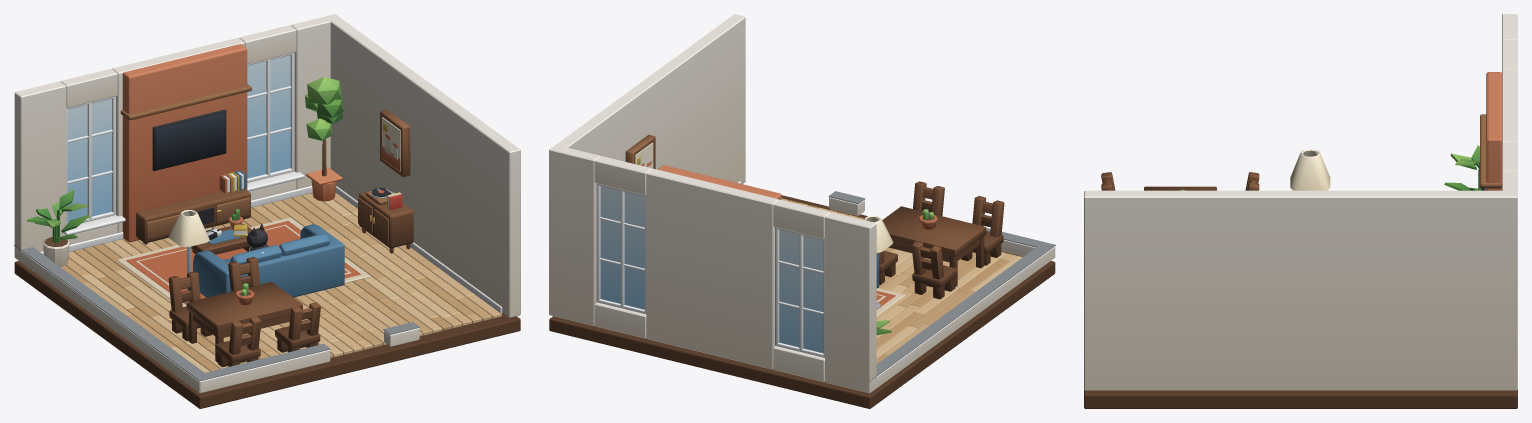
The model's file is living-room.glb.
3 renders of one model, left to right at view 1: azimuth 30°, elevation 25°; view 2: azimuth 150°, elevation 25°; view 3: azimuth 270°, elevation 25°, orthographic. The views are drawn at different scales.
Parts seen in each view (by area): view 1: walls, floor, chimney, window_glass, sofa, dining_table, rug, tv, media_unit, plant_tree, record_player, plant_leafy (+9 smaller); view 2: walls, floor, window_glass, dining_table, chair_nw, chair_sw, chair_se, chimney, floor_lamp, chair_ne; view 3: walls, floor, chimney, floor_lamp, plant_leafy.
Part boxes in pixels (bbox=[...]): walls: bbox=[14, 14, 520, 393]; floor: bbox=[14, 192, 520, 408]; chimney: bbox=[120, 44, 251, 242]; window_glass: bbox=[67, 55, 290, 222]; sofa: bbox=[193, 224, 344, 297]; dining_table: bbox=[186, 282, 302, 362]; rug: bbox=[116, 217, 370, 306]; tv: bbox=[152, 109, 226, 170]; media_unit: bbox=[136, 188, 250, 244]; plant_tree: bbox=[305, 76, 343, 201]; record_player: bbox=[358, 187, 413, 253]; plant_leafy: bbox=[27, 190, 89, 266]; walls: bbox=[549, 14, 1055, 393]; floor: bbox=[549, 195, 1055, 408]; window_glass: bbox=[600, 186, 823, 353]; dining_table: bbox=[882, 206, 986, 286]; chair_nw: bbox=[911, 241, 957, 299]; chair_sw: bbox=[961, 196, 1004, 265]; chair_se: bbox=[913, 181, 944, 215]; chimney: bbox=[658, 165, 781, 199]; floor_lamp: bbox=[864, 215, 893, 308]; chair_ne: bbox=[879, 250, 897, 284]; walls: bbox=[1084, 14, 1517, 390]; floor: bbox=[1084, 390, 1517, 408]; chimney: bbox=[1480, 72, 1501, 190]; floor_lamp: bbox=[1290, 149, 1330, 190]; plant_leafy: bbox=[1444, 145, 1486, 190].
Bounding box in the file's own units: 8.21 × 4.38 × 8.1.
Materials: 2 (2 with a texture image).
